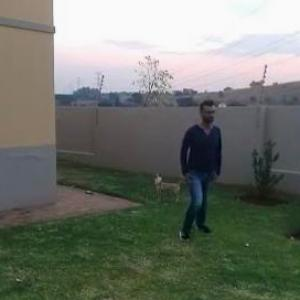follow: (174, 94, 224, 246)
